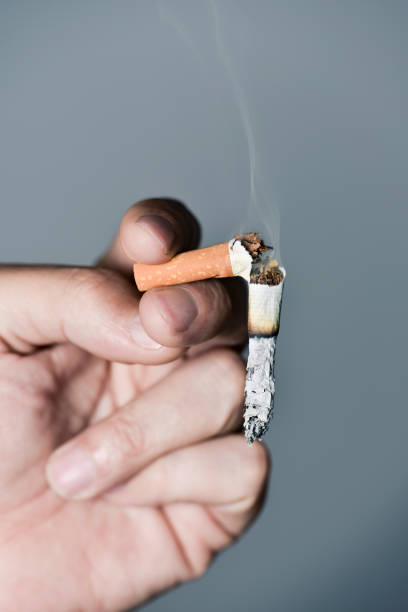cigarette: (130, 230, 283, 292), (245, 265, 286, 444)
